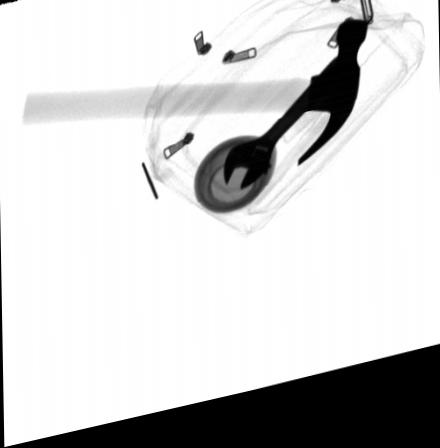Hammer: (19, 37, 369, 181)
Wrench: (222, 64, 355, 200)
